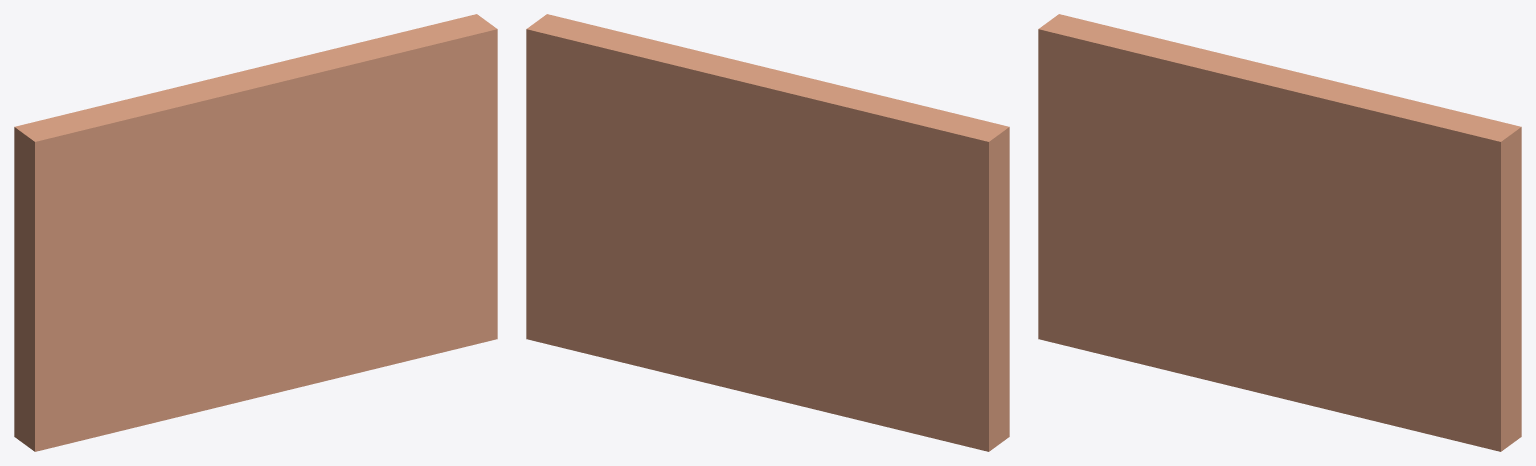
File: Muro_03.fbx
3 renders of one model, left to right at view 1: azimuth 30°, elevation 25°; view 2: azimuth 150°, elevation 25°; view 3: azimuth 330°, elevation 25°, orthographic.
Visible parts, largest first — view 1: Muro_03; view 2: Muro_03; view 3: Muro_03.
Part boxes in pixels (x1,y1,x2,y2): Muro_03: [14, 14, 497, 451]; Muro_03: [526, 14, 1009, 451]; Muro_03: [1038, 14, 1521, 451].
Bounding box in the file's own units: 11.17 × 7.15 × 0.8656.
